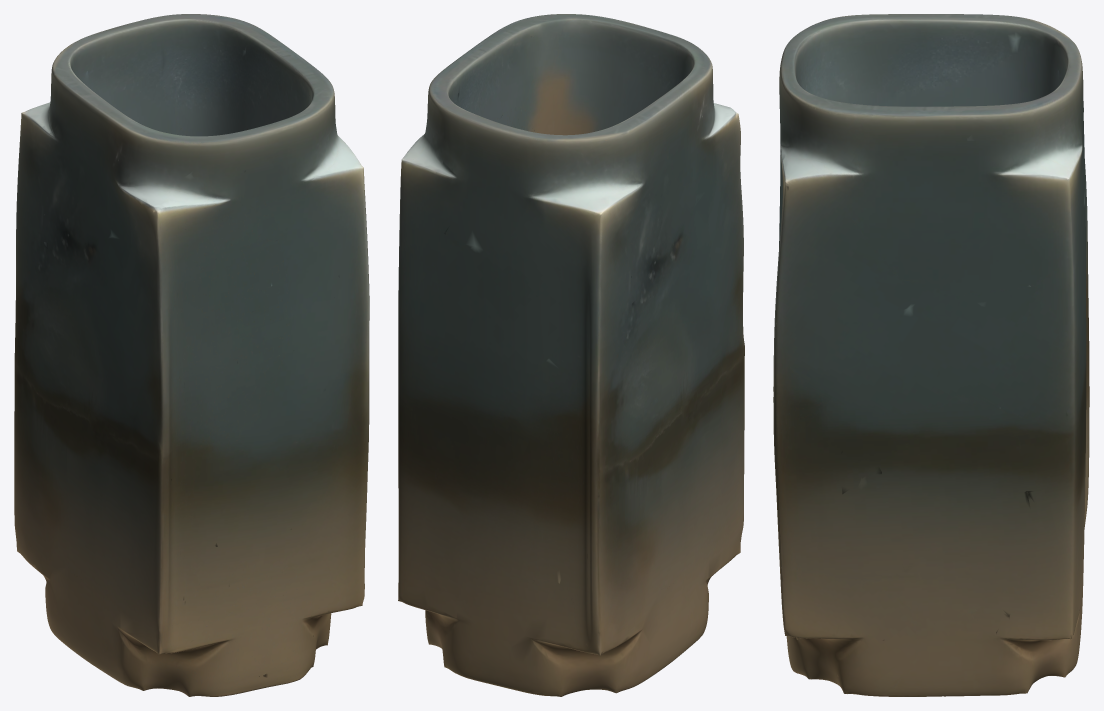
File: qijia.glb
3 renders of one model, left to right at view 1: azimuth 30°, elevation 25°; view 2: azimuth 150°, elevation 25°; view 3: azimuth 270°, elevation 25°, orthographic. The views are drawn at different scales.
Parts seen in each view (by area): view 1: node_0; view 2: node_0; view 3: node_0.
Boxes of the visible parts, x1,y1,x2,y2 form: node_0: (14,14,369,696); node_0: (398,14,744,696); node_0: (773,14,1089,696).
Size of the model in its own units: 0.4343 by 1.09 by 0.5287.
1 material, 1 textured.
